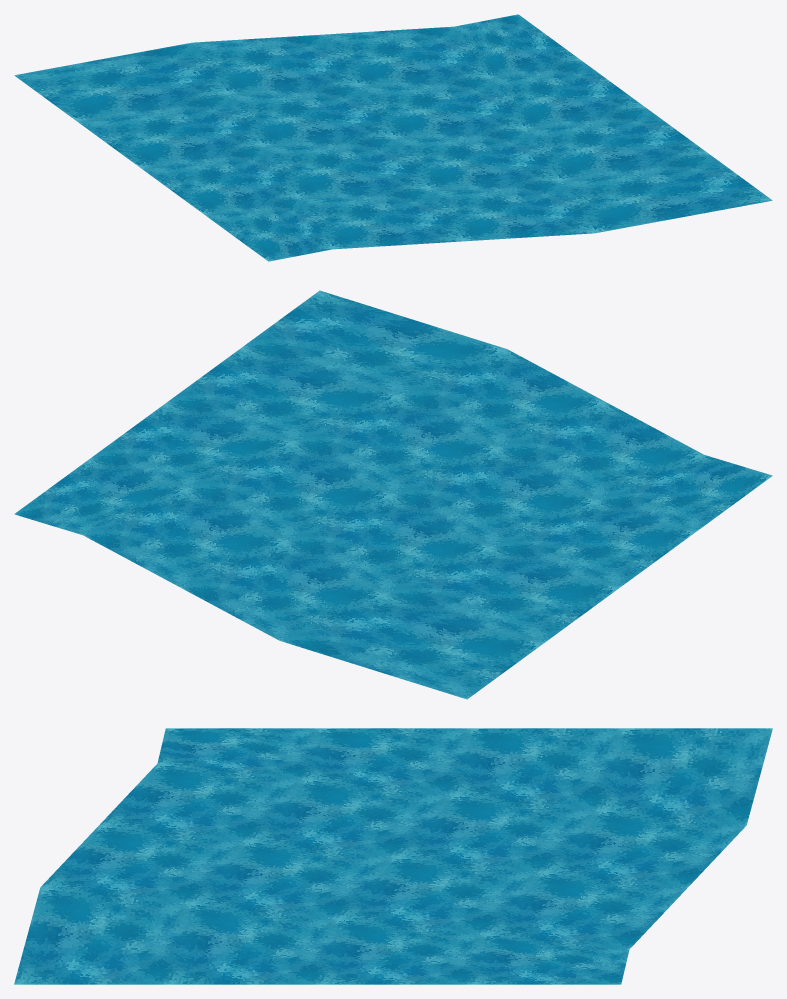
Rendered from Terrain_Water_River_Esse_CW_4x5.fbx.
The picture shows the model from 3 angles, top to bottom: view 1: azimuth 30°, elevation 25°; view 2: azimuth 150°, elevation 25°; view 3: azimuth 270°, elevation 25°; orthographic projection. The views are drawn at different scales.
Parts seen in each view (by area): view 1: Terrain_Water_River_Esse_CW_4x5; view 2: Terrain_Water_River_Esse_CW_4x5; view 3: Terrain_Water_River_Esse_CW_4x5.
Part boxes in pixels (x1,y1,x2,y2): Terrain_Water_River_Esse_CW_4x5: (14, 14, 772, 261); Terrain_Water_River_Esse_CW_4x5: (14, 290, 772, 699); Terrain_Water_River_Esse_CW_4x5: (14, 728, 772, 984).
Size of the model in its own units: 400 by 9.43e-05 by 500.
